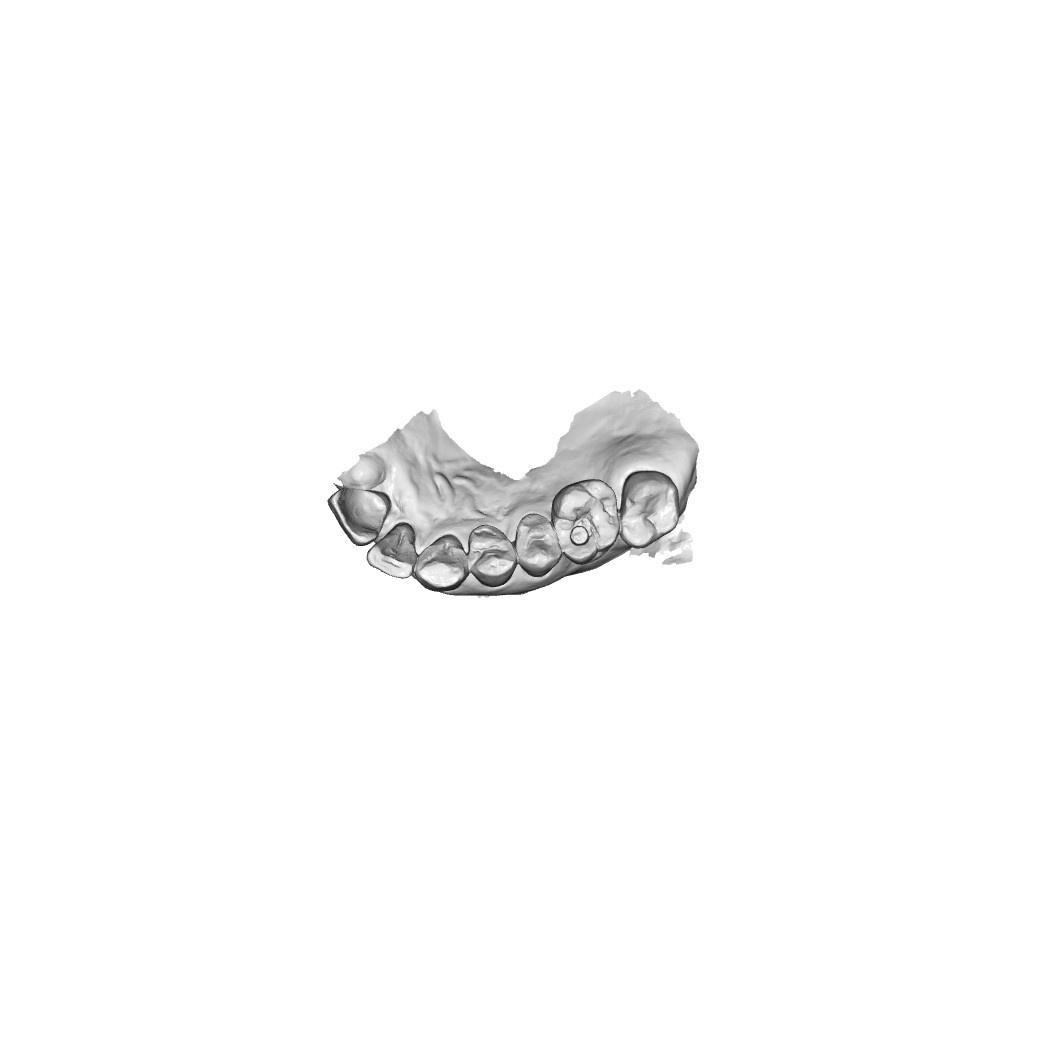canine: (415, 532, 464, 595)
incisor: (330, 481, 388, 549), (365, 523, 418, 582)
molar: (552, 475, 624, 559), (622, 474, 683, 545)
premolar: (465, 523, 514, 589), (516, 514, 563, 578)
